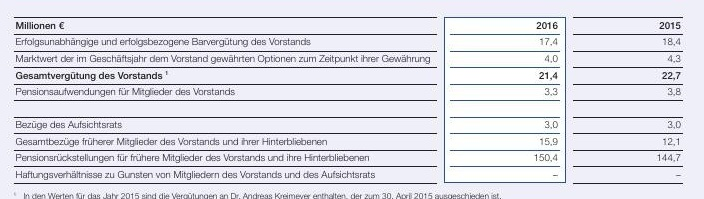table: (0, 0, 704, 199)
